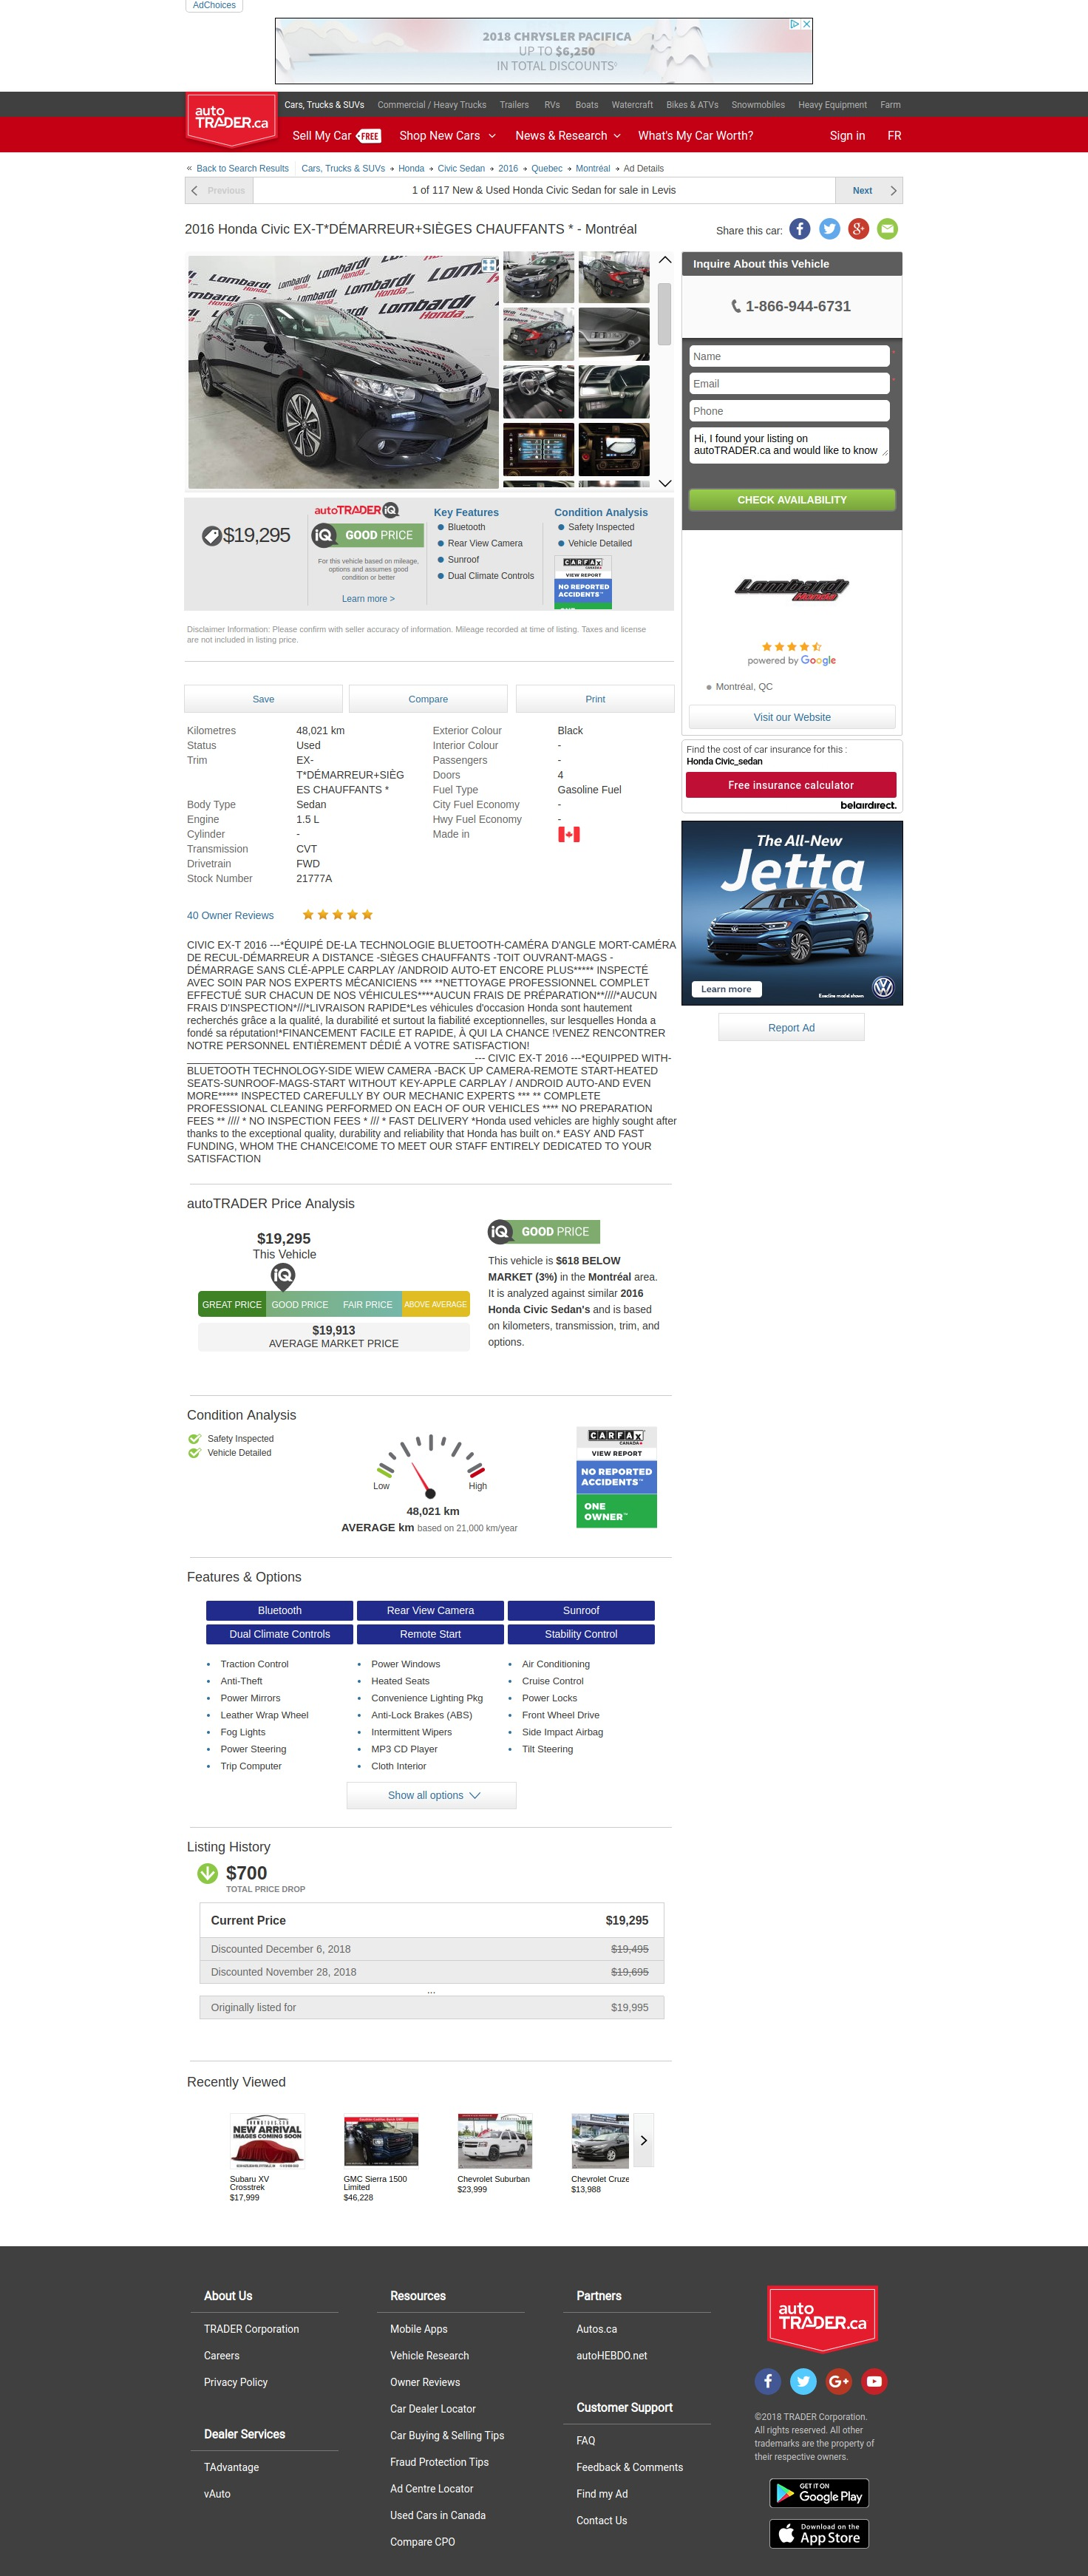car: (657, 478, 674, 490)
